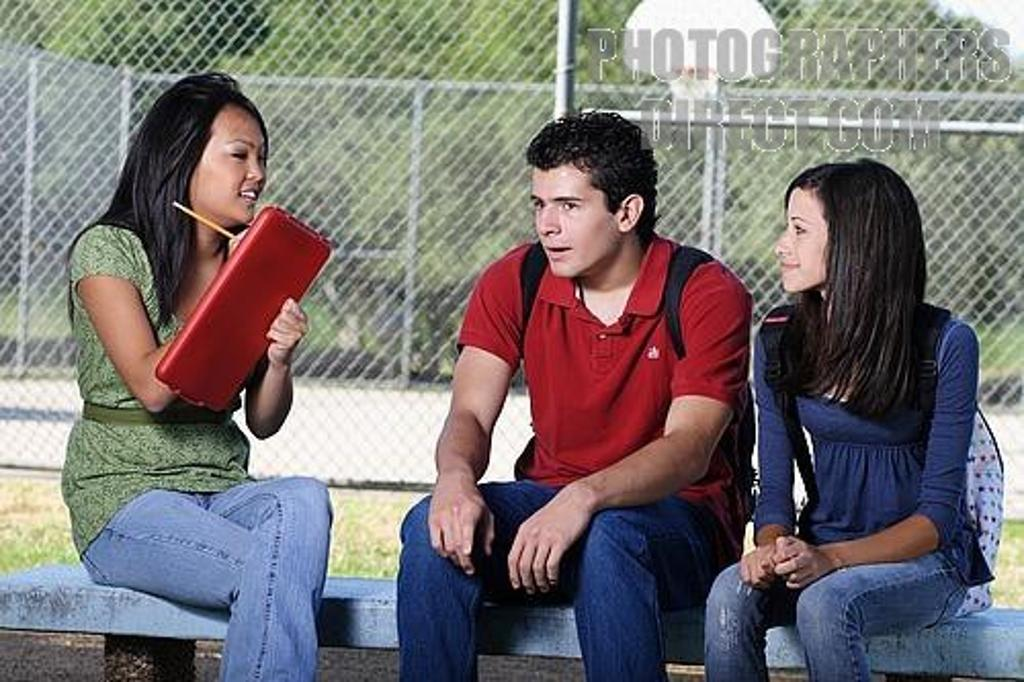face: (526, 168, 612, 282), (770, 182, 840, 296), (212, 106, 274, 226)
